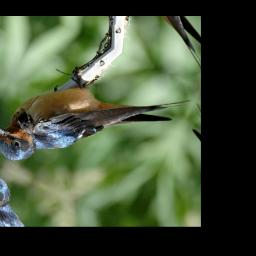Swallow: (0, 31, 193, 217)
